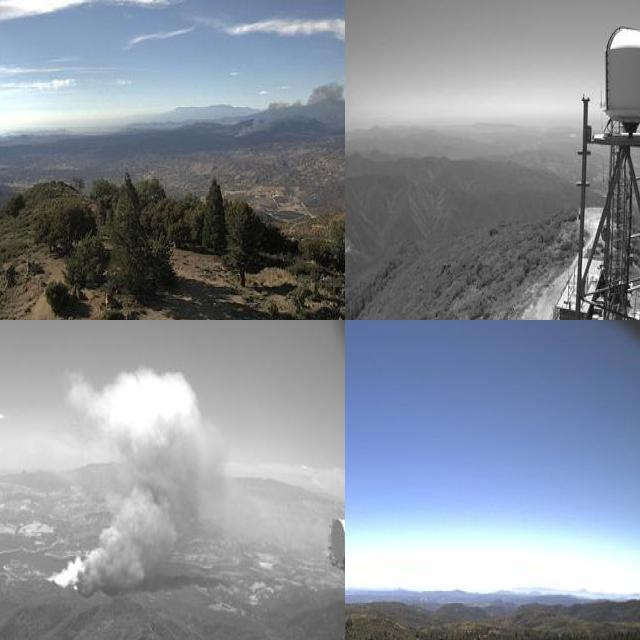smoke: (48, 368, 227, 592), (231, 76, 345, 140)
